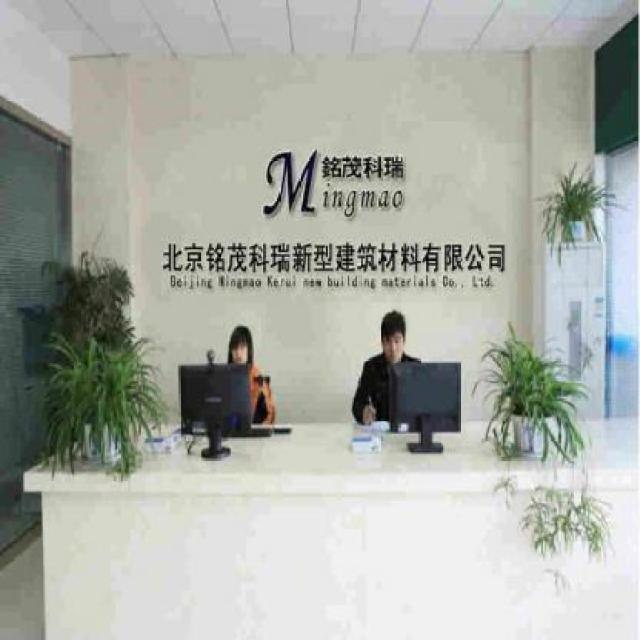frontdesk: (15, 403, 640, 640)
